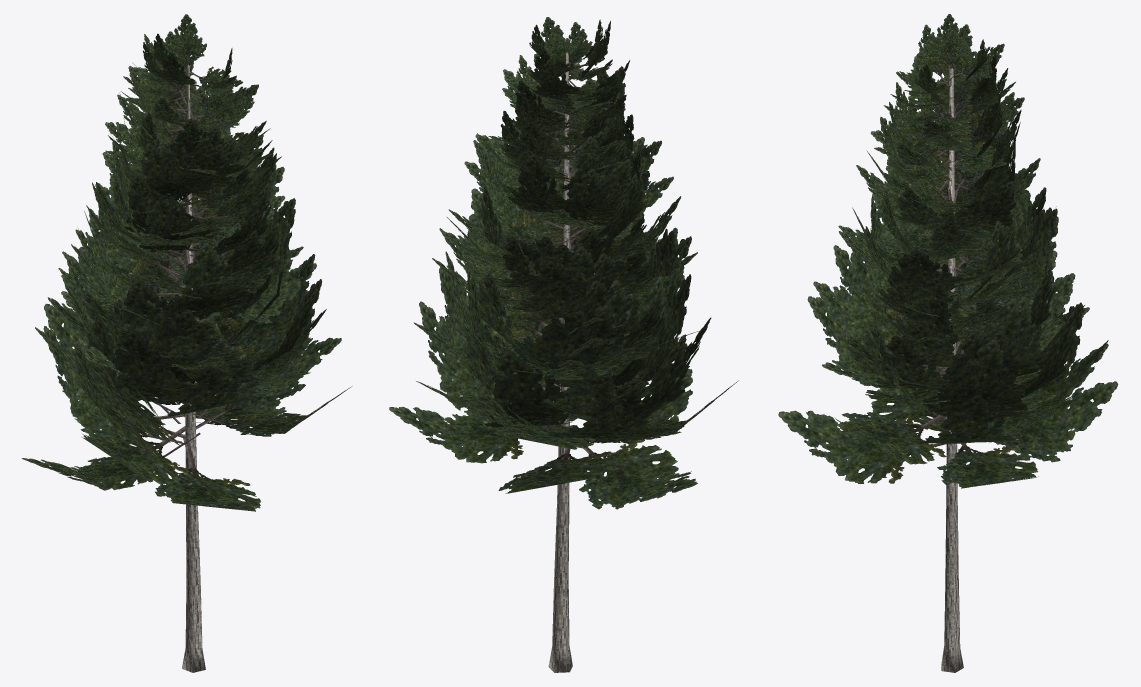
File: Generic Tree.fbx
The picture shows the model from 3 angles, left to right: view 1: azimuth 30°, elevation 25°; view 2: azimuth 150°, elevation 25°; view 3: azimuth 270°, elevation 25°; orthographic projection. The views are drawn at different scales.
Visible parts, largest first — view 1: Generic Tree; view 2: Generic Tree; view 3: Generic Tree.
Boxes of the visible parts, x1,y1,x2,y2 form: Generic Tree: (22,14,351,672); Generic Tree: (389,17,738,672); Generic Tree: (778,14,1118,672).
Size of the model in its own units: 3.23 by 6.68 by 3.37.
Materials: 2 (2 with a texture image).
